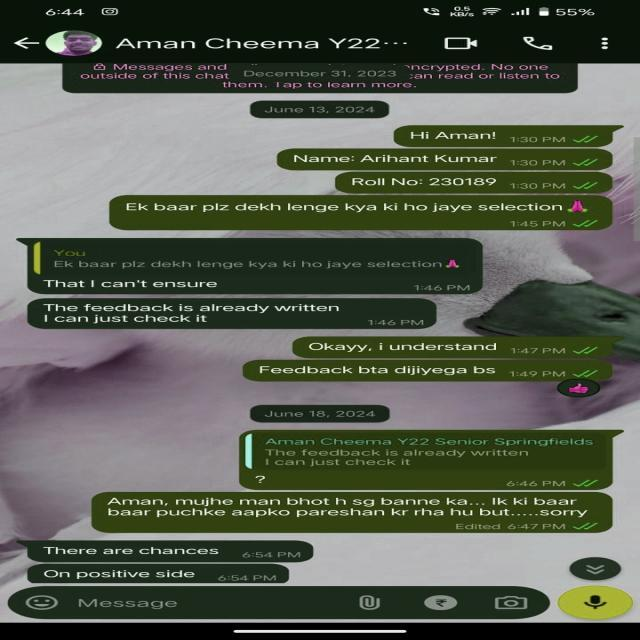scam: (26, 299, 440, 329), (28, 274, 481, 295), (29, 540, 314, 562), (28, 564, 291, 584)
